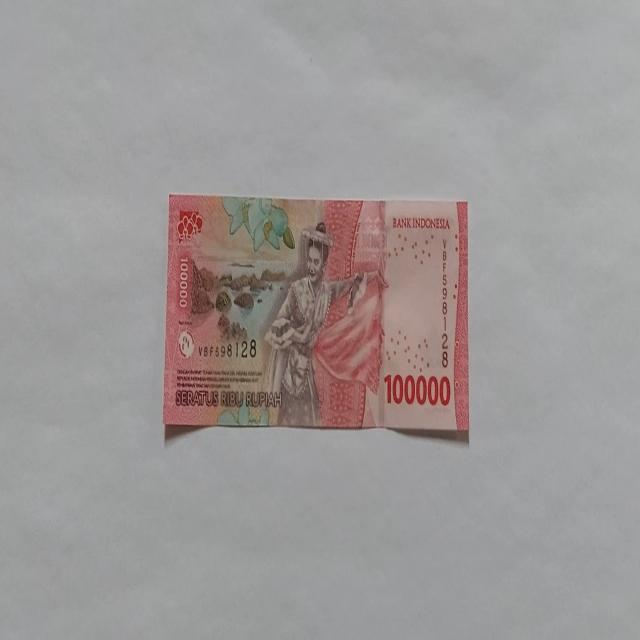seratus ribu rupiah: (162, 195, 470, 436), (260, 220, 384, 428)
